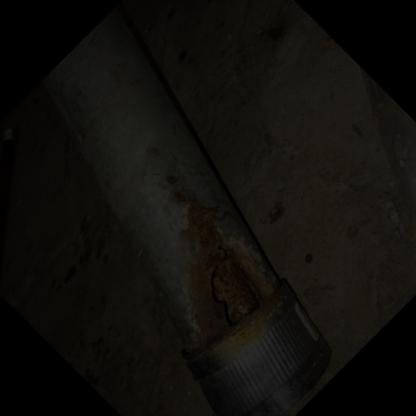burst: (183, 223, 286, 349)
